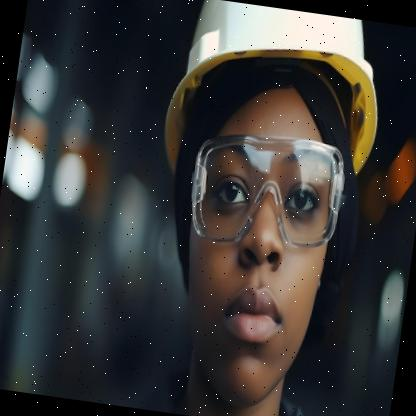oculos: (183, 125, 349, 257)
